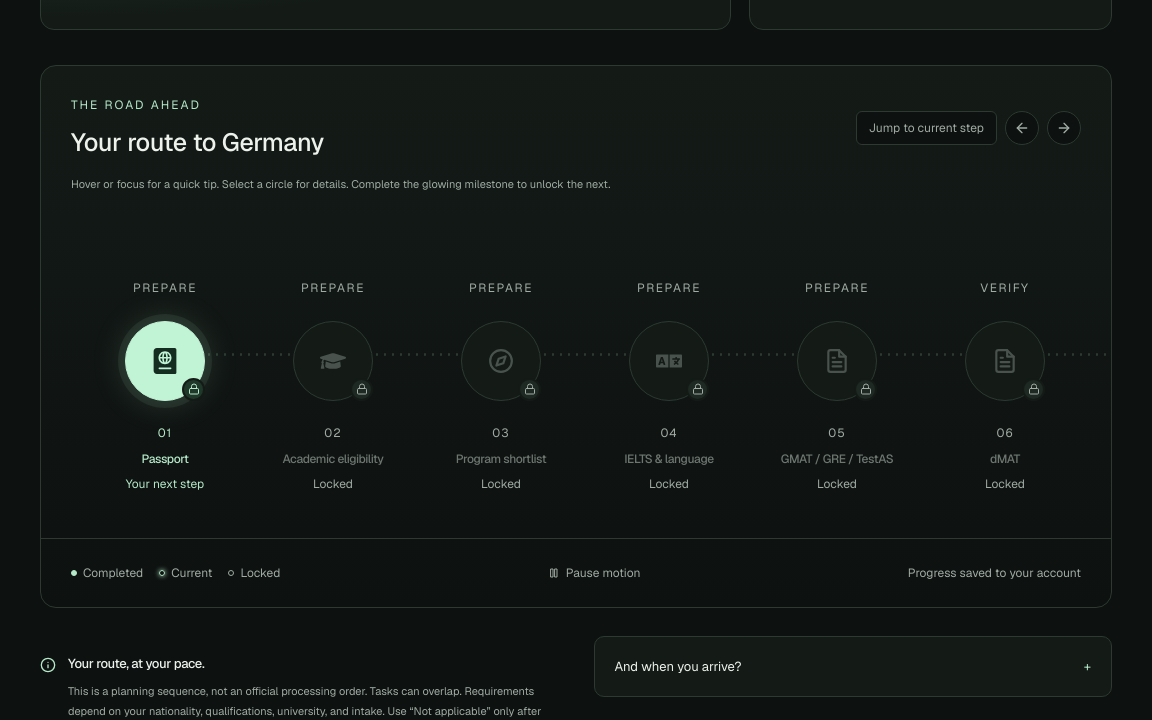
a failed save keeps the same stage active and permits retry without a false unlock
(page scrolled)
Click the button named "Passport — current milestone" at (165, 361), box left=125, top=321, right=205, bottom=401
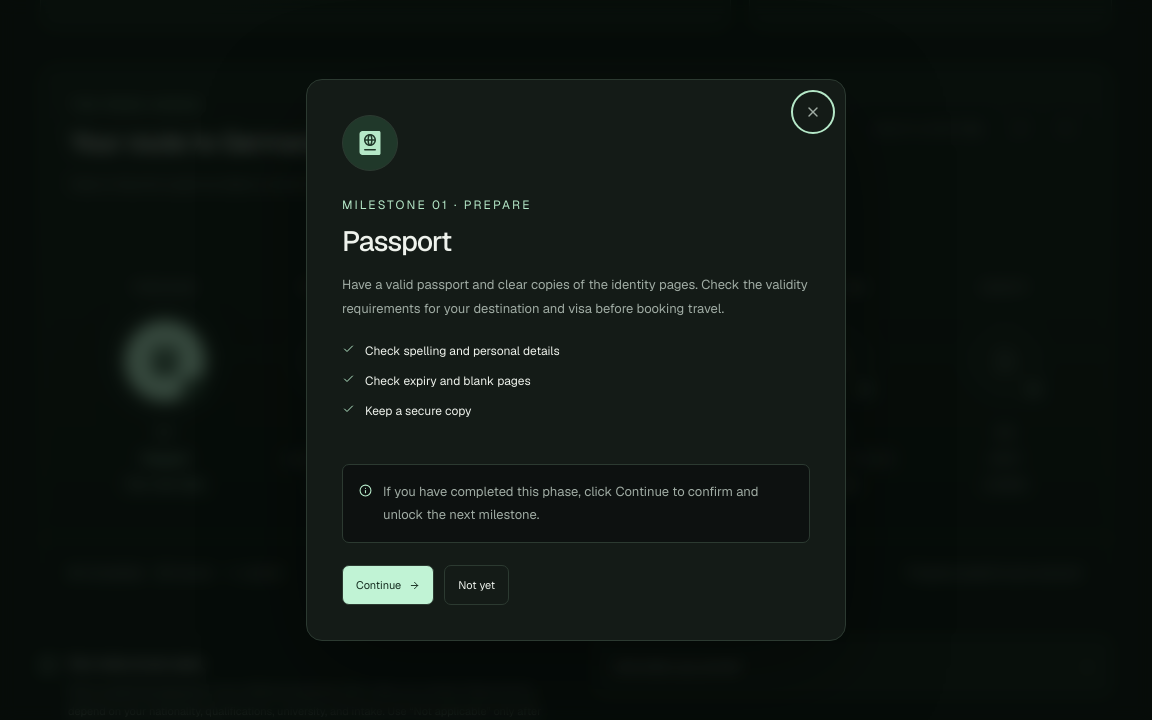
Click the button "Continue" at (388, 585), box left=342, top=565, right=434, bottom=605
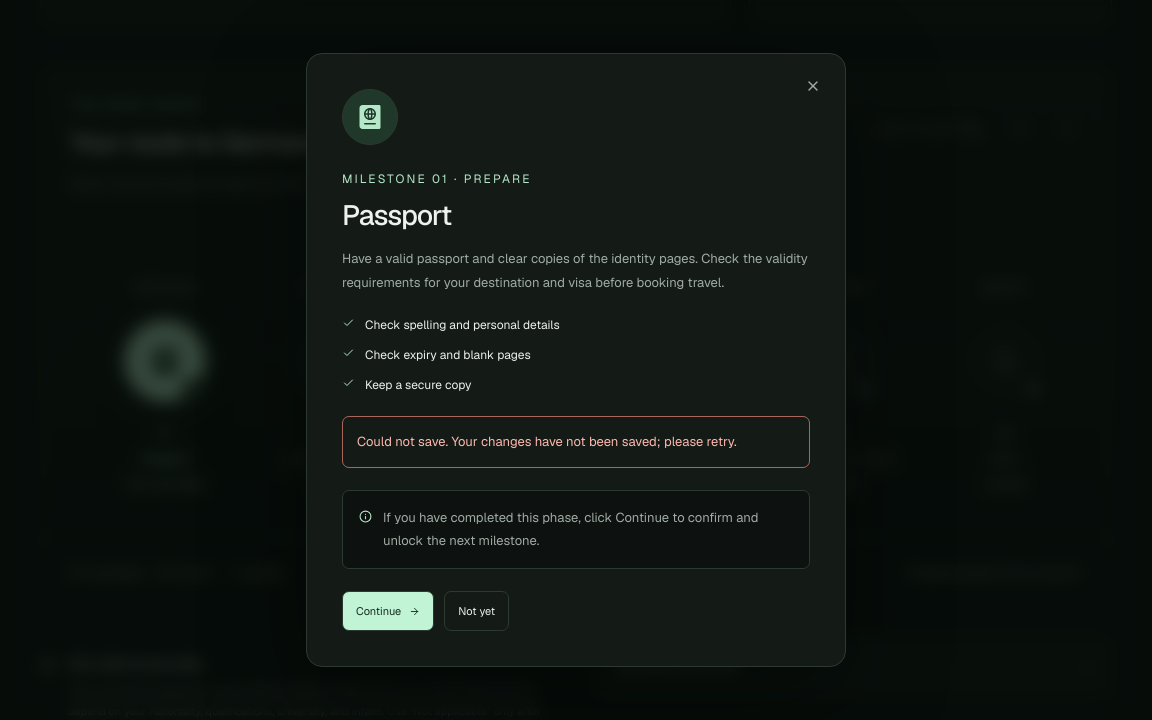
expect the button named "Passport — current milestone" is shown: met, box left=125, top=321, right=205, bottom=401
expect the message "Could not save. Your changes have not been saved; please retry." is shown: met, box left=342, top=416, right=810, bottom=468
Click the button "Continue" at (388, 611), box left=342, top=591, right=434, bottom=631
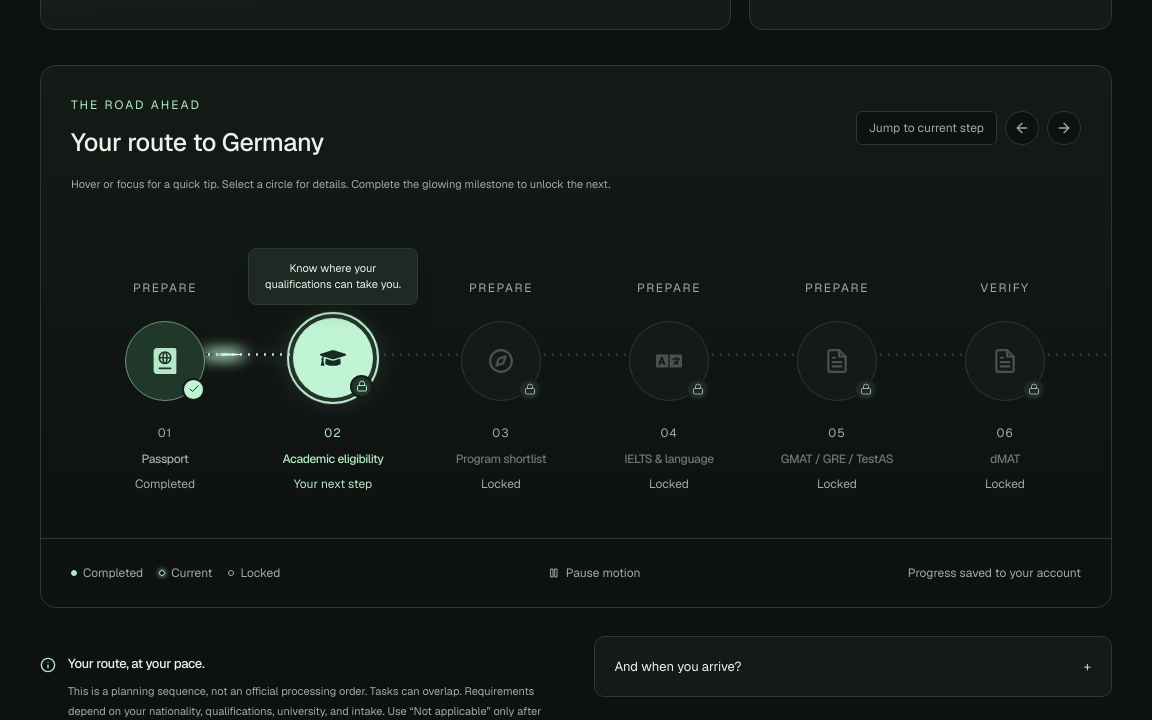
expect the button named "Academic eligibility — current milestone" is shown: met, box left=293, top=318, right=373, bottom=398
